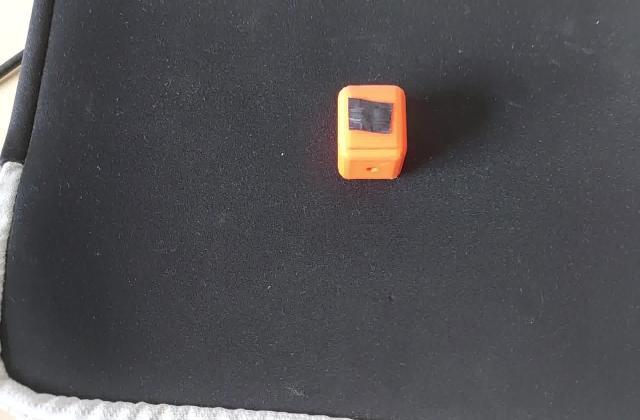black: (345, 96, 399, 138)
sticker: (332, 82, 412, 186)
